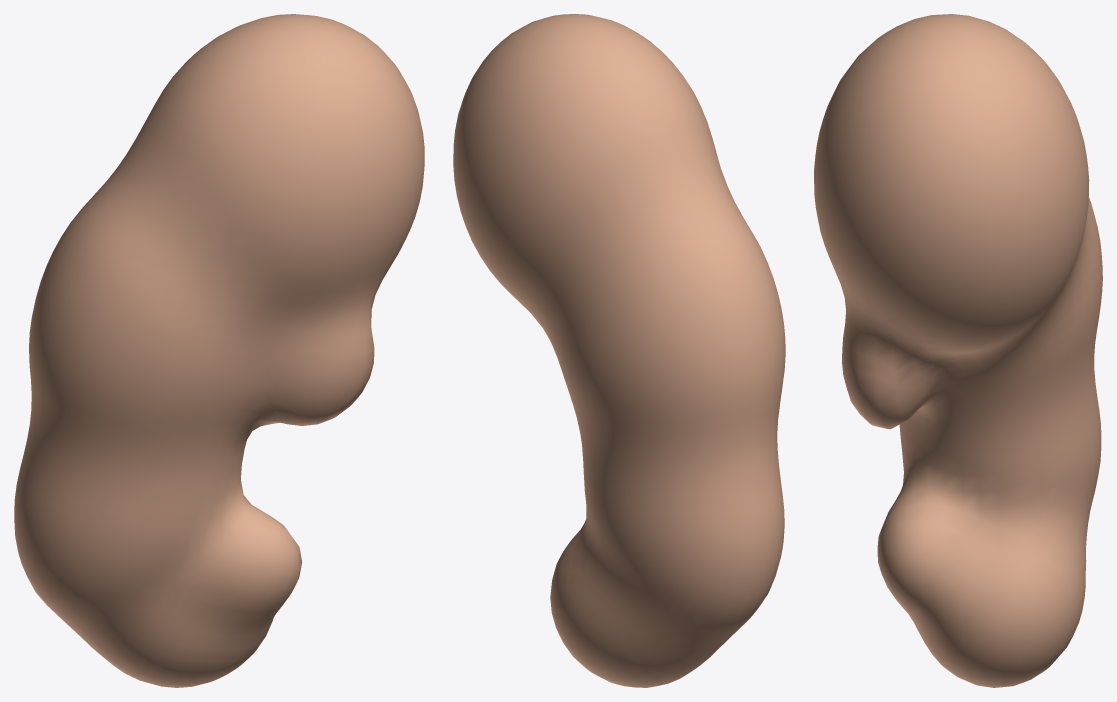
File: mayo.gltf
3 renders of one model, left to right at view 1: azimuth 30°, elevation 25°; view 2: azimuth 150°, elevation 25°; view 3: azimuth 270°, elevation 25°, orthographic. The views are drawn at different scales.
Visible parts, largest first — view 1: Alessa_mayo_continuous_surface; view 2: Alessa_mayo_continuous_surface; view 3: Alessa_mayo_continuous_surface.
Part boxes in pixels (box(x1,y1,x2,y2)): Alessa_mayo_continuous_surface: box(14, 14, 424, 687); Alessa_mayo_continuous_surface: box(453, 14, 785, 687); Alessa_mayo_continuous_surface: box(814, 14, 1102, 687).
Bounding box in the file's own units: 0.6978 × 1.23 × 0.4648.
